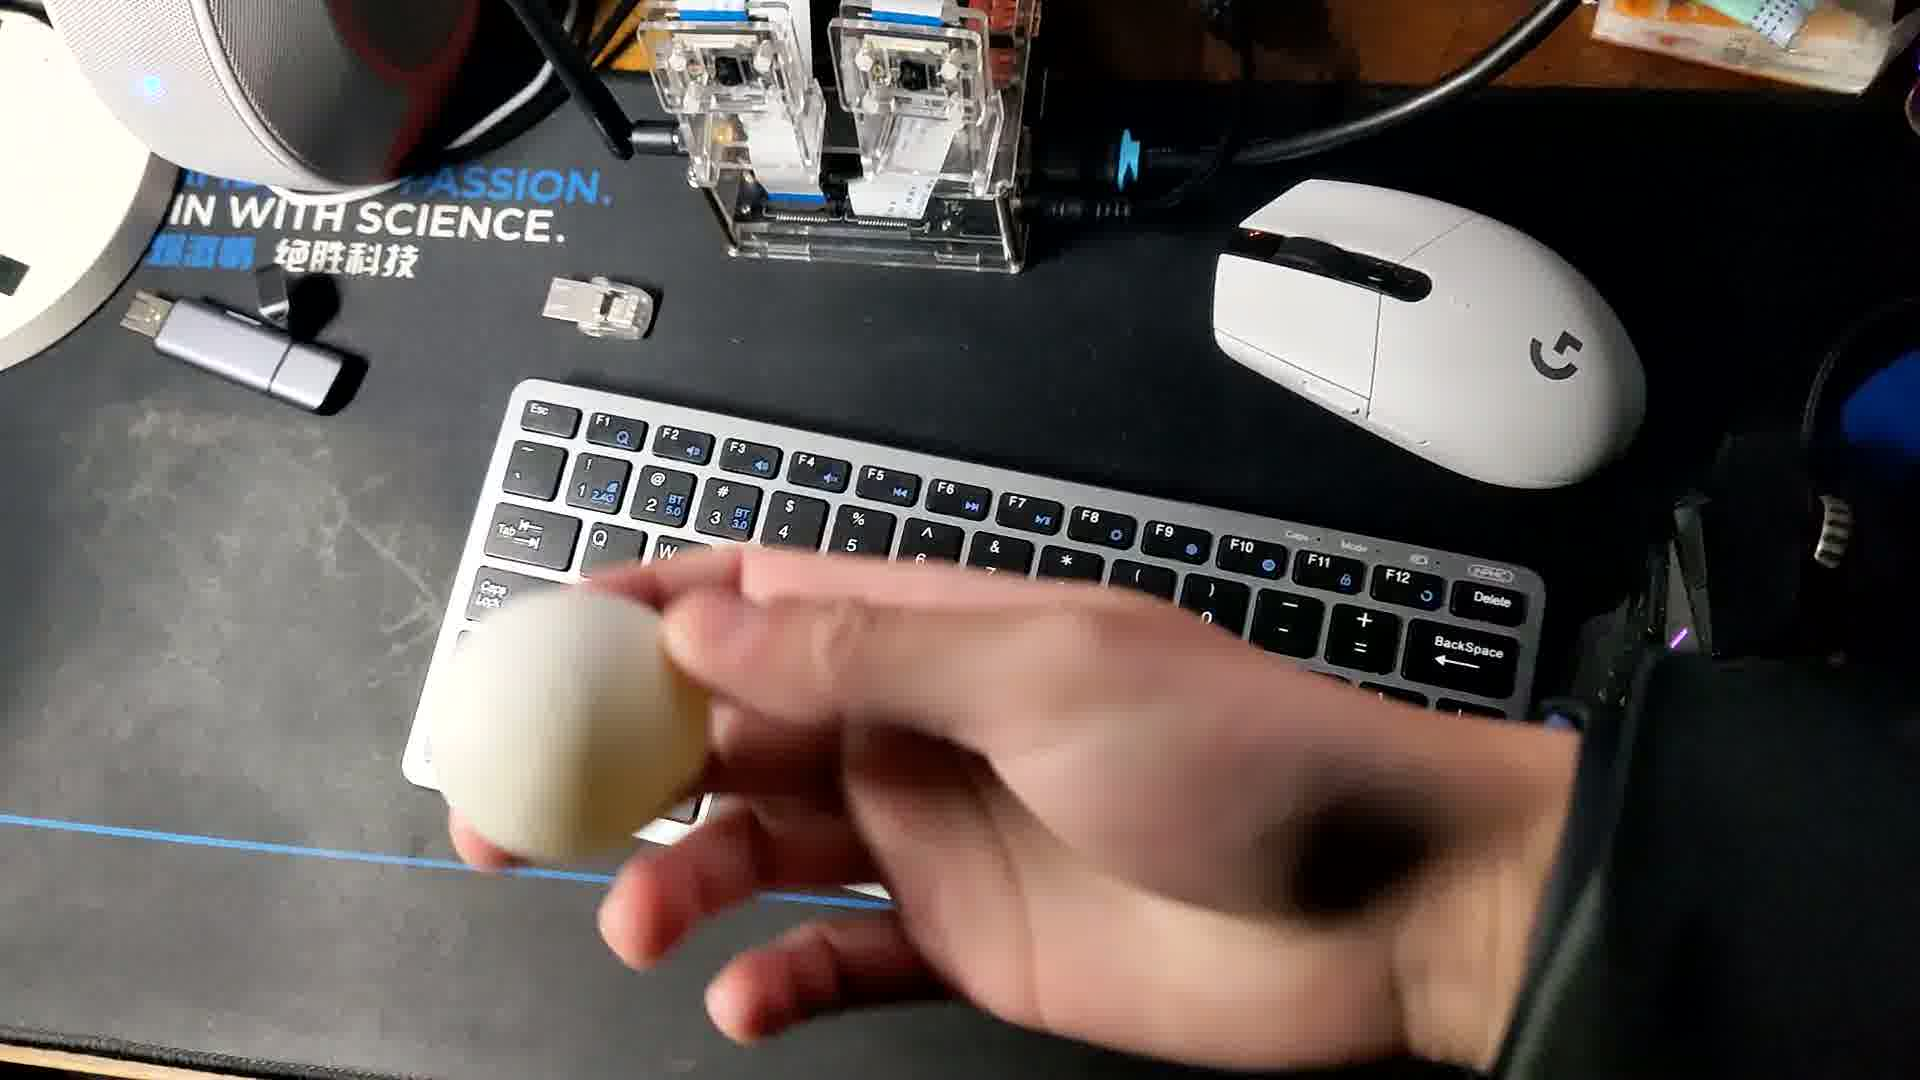Ball: (430, 589, 709, 853)
